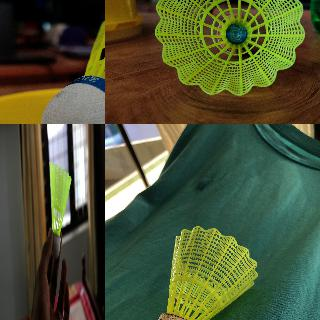shuttlecock: (153, 0, 307, 95), (149, 225, 258, 319), (40, 0, 104, 123), (49, 161, 71, 258)
